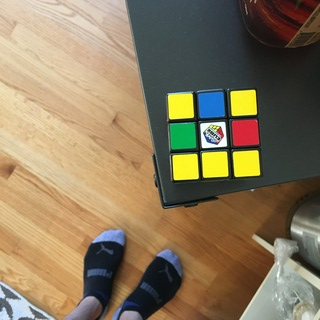face: (166, 87, 262, 182)
